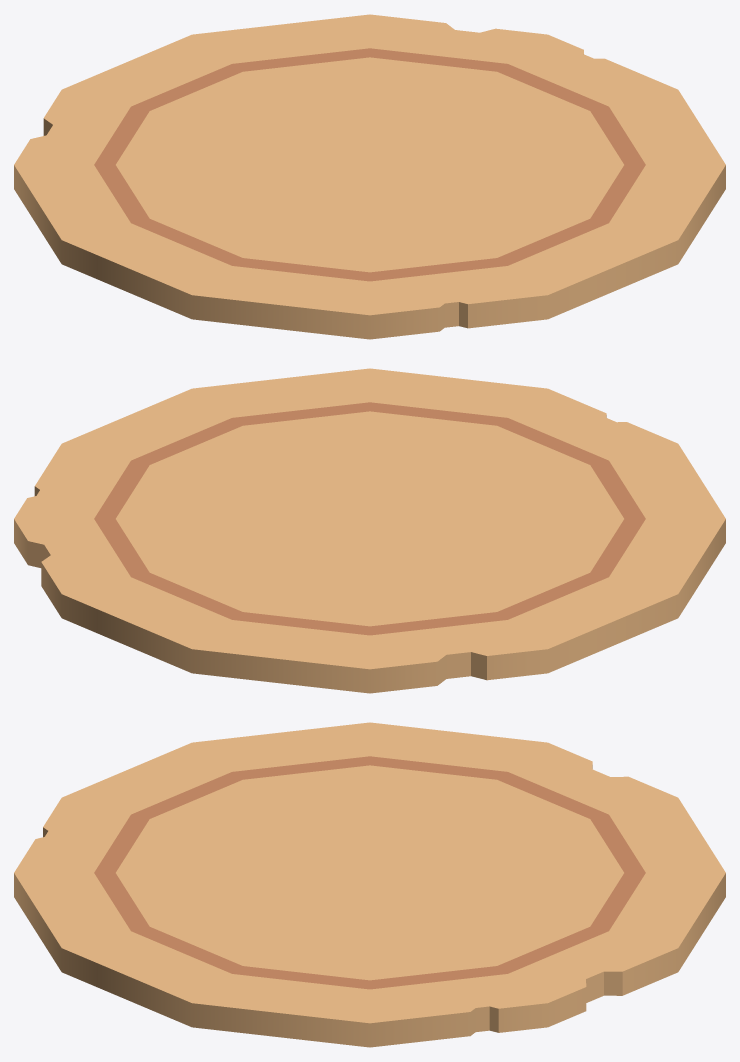
The model's file is cuttingBoardRound.fbx.
The picture shows the model from 3 angles, top to bottom: view 1: azimuth 30°, elevation 25°; view 2: azimuth 150°, elevation 25°; view 3: azimuth 270°, elevation 25°; orthographic projection.
Parts seen in each view (by area): view 1: cuttingBoardRound; view 2: cuttingBoardRound; view 3: cuttingBoardRound.
Part boxes in pixels (x1,y1,x2,y2): cuttingBoardRound: (14,14,725,339); cuttingBoardRound: (14,368,725,693); cuttingBoardRound: (14,722,725,1047).
Bounding box in the file's own units: 8 × 0.3 × 8.
